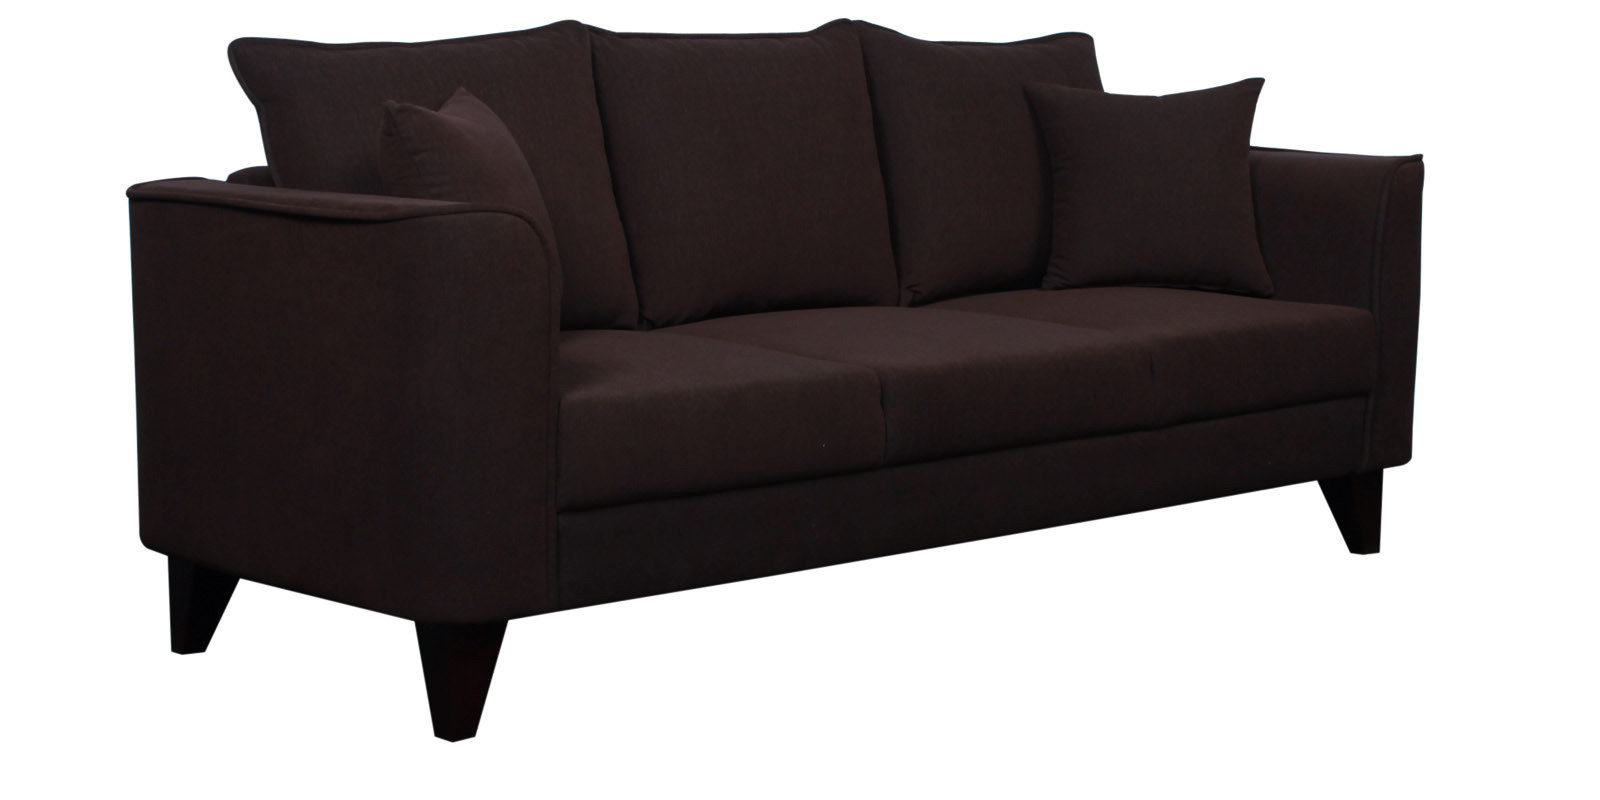Lara Three Seater Sofa in Chestnut Brown Colour by CasaCraft: (124, 14, 1426, 744)
